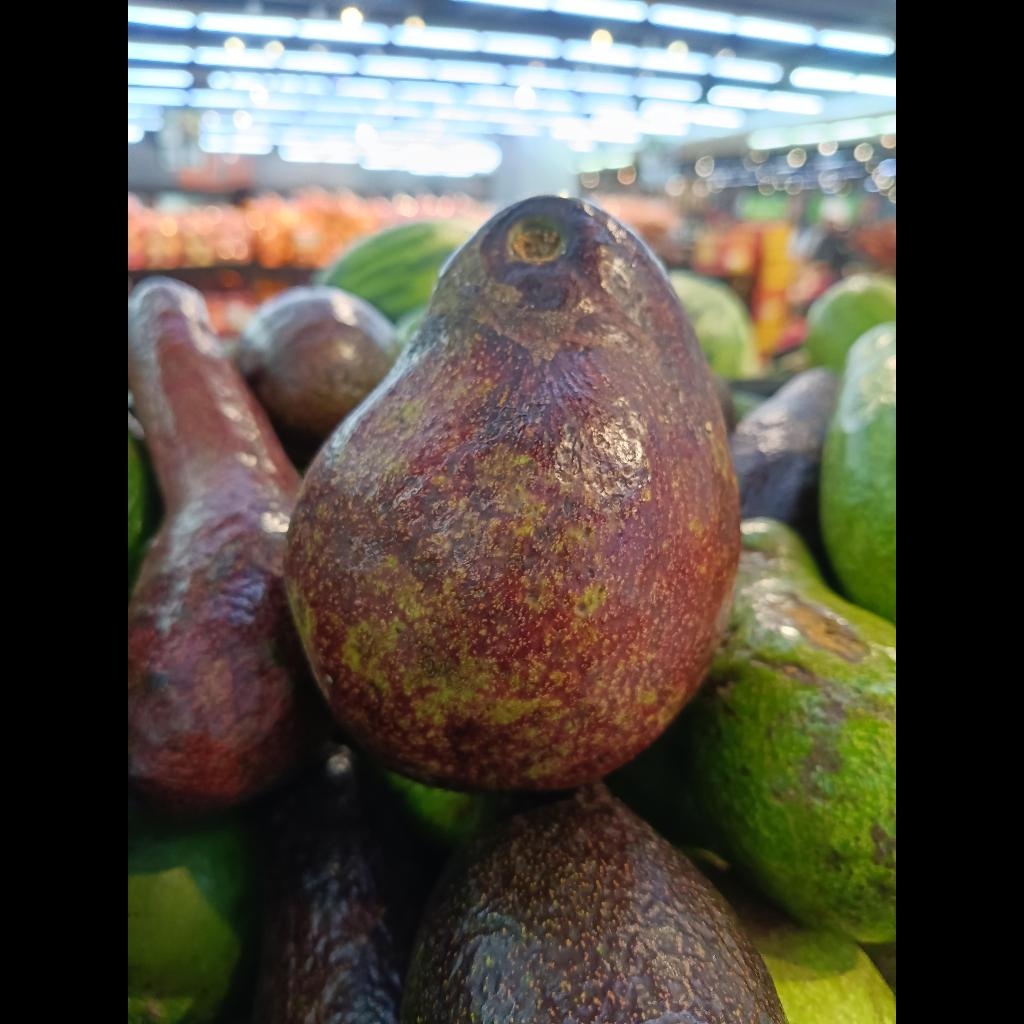rona: (286, 196, 740, 790)
